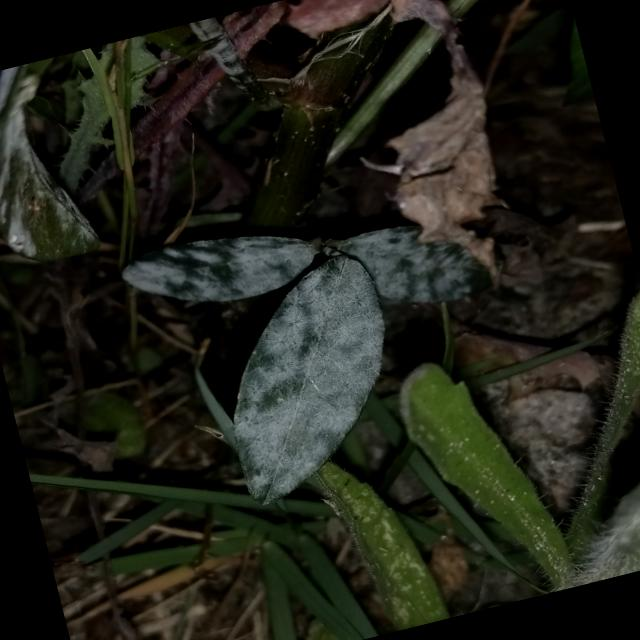powdery_mildew: (232, 255, 384, 502), (123, 236, 318, 301), (335, 225, 490, 301)
